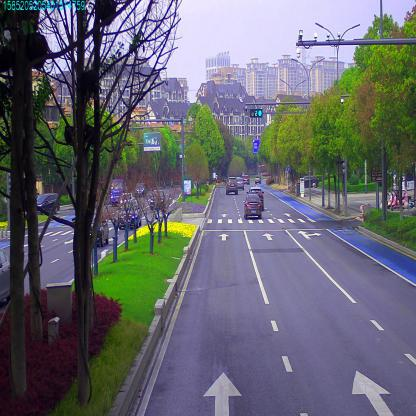traffic-light: (250, 110, 264, 115)
